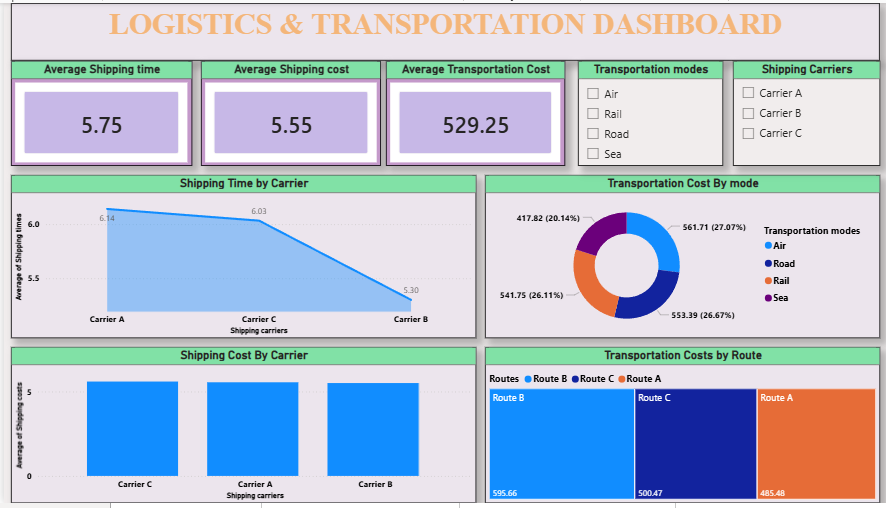

This screenshot's page, from the dashboard's own definition file:
{"tool":"powerbi","page":{"name":"Logistics and Transportation Dashboard","canvas":[1280,720],"ordinal":3},"visuals":[{"type":"textbox","box":[10.2,0,1251.2,83.4],"z":0},{"type":"cardVisual","title":"Average Shipping time ","fields":{"Data":["Avg(project_supply_chain_data supply_chain_data.Shipping times)"]},"box":[10.1,83.5,260.6,151.2],"z":1000},{"type":"cardVisual","title":"Average Shipping cost ","fields":{"Data":["Avg(project_supply_chain_data supply_chain_data.Shipping costs)"]},"box":[283.7,83.5,259.2,151.2],"z":2000},{"type":"cardVisual","title":"Average Transportation Cost","fields":{"Data":["Avg(project_supply_chain_data supply_chain_data.Costs)"]},"box":[550.1,83.5,257.8,151.2],"z":3000},{"type":"lineChart","title":"Shipping Time by Carrier","fields":{"Category":["project_supply_chain_data supply_chain_data.Shipping carriers"],"Y":["Avg(project_supply_chain_data supply_chain_data.Shipping times)"]},"box":[10.1,247.7,669.6,234.7],"z":4000},{"type":"columnChart","title":"Shipping Cost By Carrier","fields":{"Category":["project_supply_chain_data supply_chain_data.Shipping carriers"],"Y":["Avg(project_supply_chain_data supply_chain_data.Shipping costs)"]},"box":[10.1,495.4,669.6,224.6],"z":5000},{"type":"donutChart","title":"Transportation Cost By mode","fields":{"Category":["project_supply_chain_data supply_chain_data.Transportation modes"],"Y":["Avg(project_supply_chain_data supply_chain_data.Costs)"]},"box":[692.6,247.7,568.8,234.7],"z":6000},{"type":"treemap","title":"Transportation Costs by Route","fields":{"Group":["project_supply_chain_data supply_chain_data.Routes"],"Values":["Avg(project_supply_chain_data supply_chain_data.Costs)"]},"box":[692.6,495.4,568.8,224.6],"z":7000},{"type":"slicer","title":"Transportation modes ","fields":{"Values":["project_supply_chain_data supply_chain_data.Transportation modes"]},"box":[826.6,83.5,208.8,151.2],"z":8000},{"type":"slicer","title":"Shipping Carriers","fields":{"Values":["project_supply_chain_data supply_chain_data.Shipping carriers"]},"box":[1049.8,83.5,211.7,151.2],"z":9000}]}

Visuals, with their boxes in screenshot pixels (x1, y1, x2, y2), scaled from the page's 1280x720 canvas onto the 886x508 screenshot:
textbox: <region>7, 0, 873, 59</region>
"Average Shipping time " cardVisual: <region>7, 59, 187, 166</region>
"Average Shipping cost " cardVisual: <region>196, 59, 376, 166</region>
"Average Transportation Cost" cardVisual: <region>381, 59, 559, 166</region>
"Shipping Time by Carrier" lineChart: <region>7, 175, 470, 340</region>
"Shipping Cost By Carrier" columnChart: <region>7, 350, 470, 507</region>
"Transportation Cost By mode" donutChart: <region>479, 175, 873, 340</region>
"Transportation Costs by Route" treemap: <region>479, 350, 873, 507</region>
"Transportation modes " slicer: <region>572, 59, 717, 166</region>
"Shipping Carriers" slicer: <region>727, 59, 873, 166</region>
